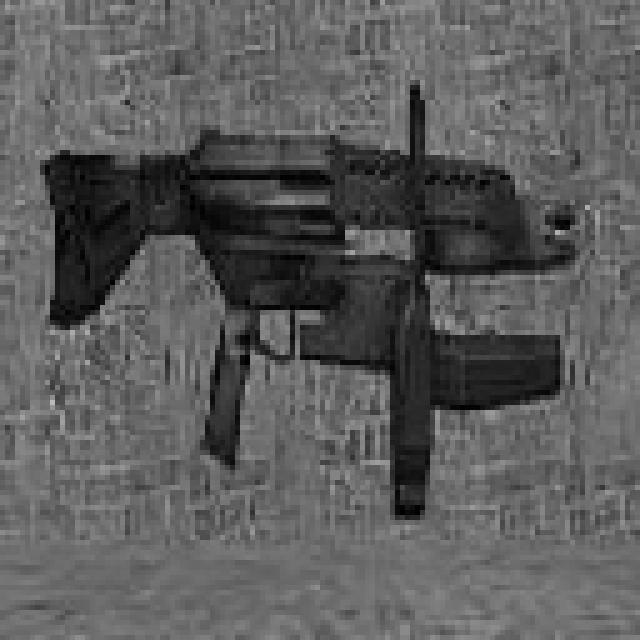Rifle: (0, 0, 606, 554)
